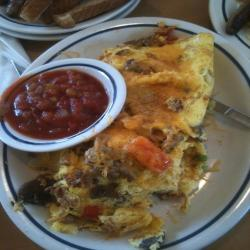ketchup: (10, 74, 109, 140)
omelette: (59, 37, 218, 239)
